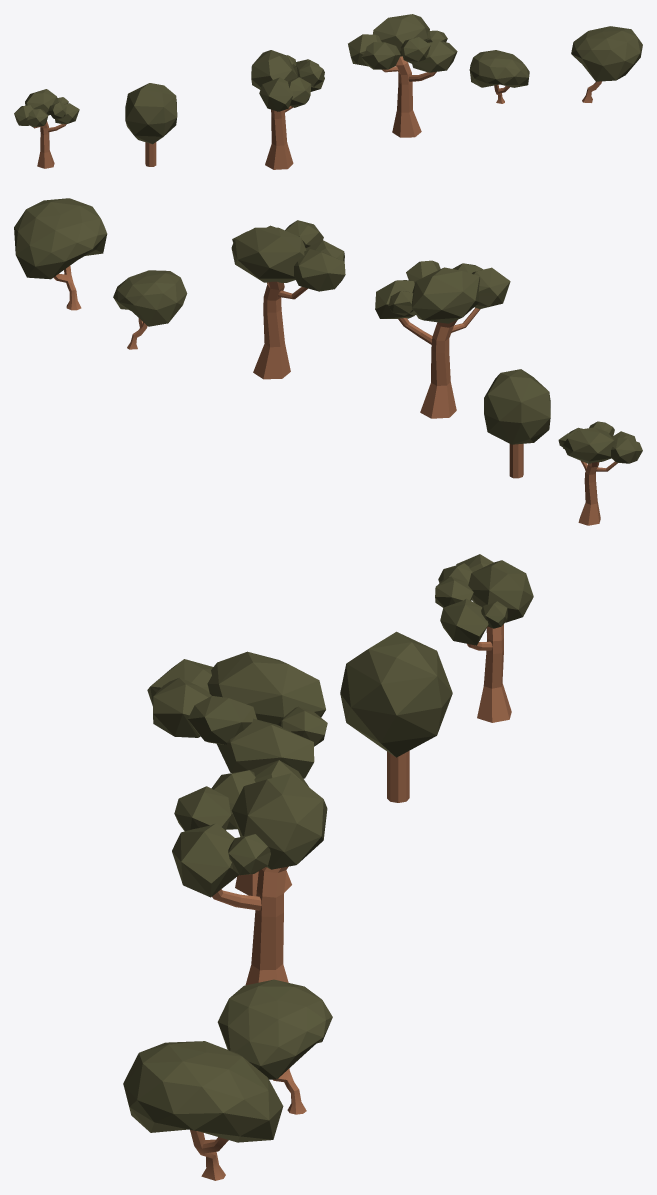
Rendered from trees 2.fbx.
3 renders of one model, top to bottom at view 1: azimuth 30°, elevation 25°; view 2: azimuth 150°, elevation 25°; view 3: azimuth 270°, elevation 25°, orthographic. The views are drawn at different scales.
Parts seen in each view (by area): view 1: Tree (×2), Tree.001, Tree.002, TRee, Tree.003; view 2: Tree (×2), Tree.001, Tree.002, TRee, Tree.003; view 3: Tree (×2), Tree.001, Tree.002, TRee, Tree.003.
Part boxes in pixels (left/top/right/bottom): Tree (×2): left=125, top=14, right=457, bottom=166; Tree.001: left=251, top=50, right=324, bottom=169; Tree.002: left=571, top=26, right=642, bottom=102; TRee: left=14, top=89, right=79, bottom=168; Tree.003: left=469, top=50, right=529, bottom=103; Tree (×2): left=231, top=220, right=550, bottom=478; Tree.001: left=375, top=260, right=510, bottom=418; Tree.002: left=14, top=198, right=107, bottom=310; TRee: left=558, top=421, right=642, bottom=525; Tree.003: left=113, top=270, right=187, bottom=349; Tree (×2): left=172, top=631, right=452, bottom=985; Tree.001: left=147, top=651, right=327, bottom=896; Tree.002: left=123, top=1041, right=283, bottom=1180; TRee: left=435, top=554, right=533, bottom=722; Tree.003: left=217, top=979, right=332, bottom=1114.
Bounding box in the file's own units: 4507 × 907 × 1455.
